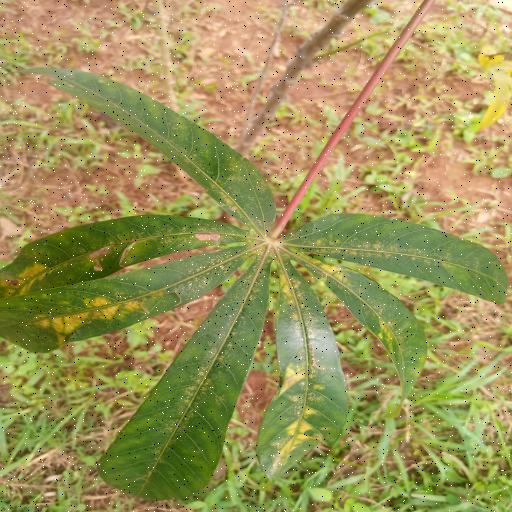Cassava_Mosaic: (2, 60, 512, 504)
